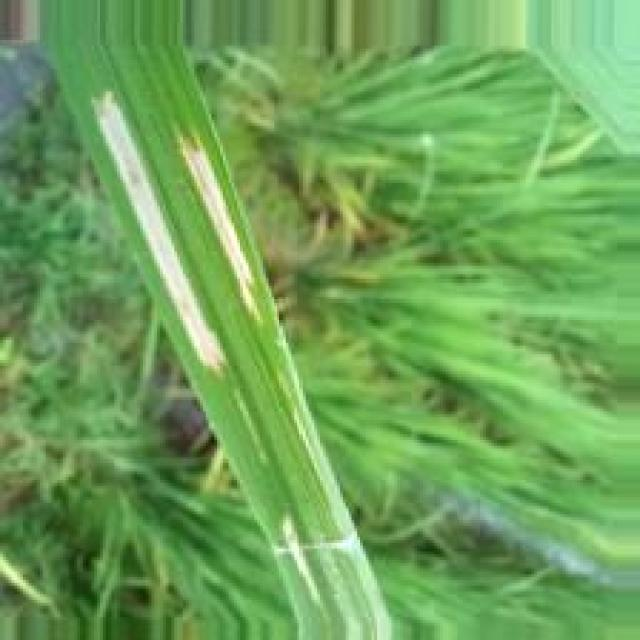Rice_Hispa: (80, 95, 229, 375), (187, 143, 256, 315)
